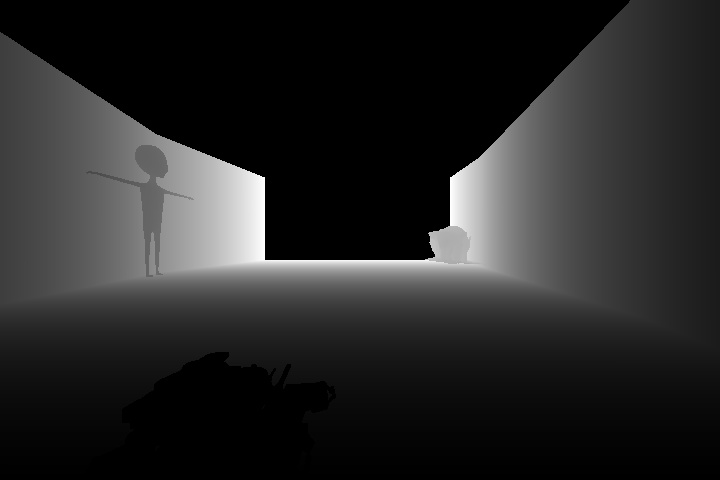alien: (82, 143, 196, 279)
